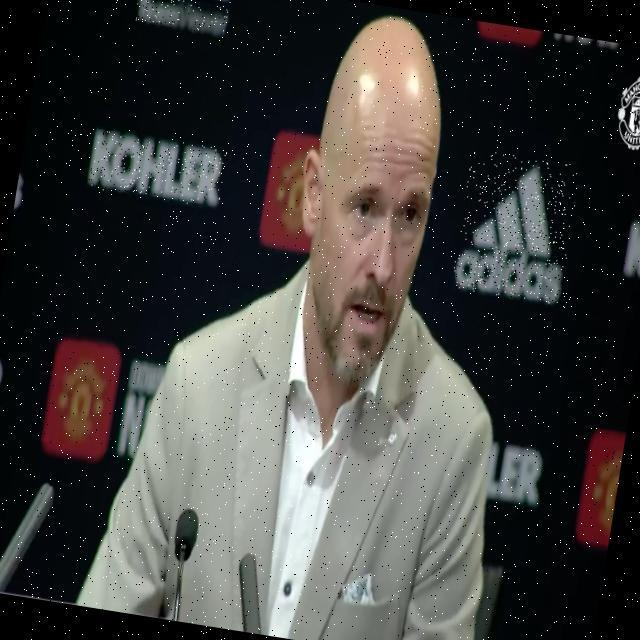Adidas: (451, 149, 581, 305)
Kohler: (87, 128, 229, 209)
TeamViewer: (134, 0, 235, 35)
